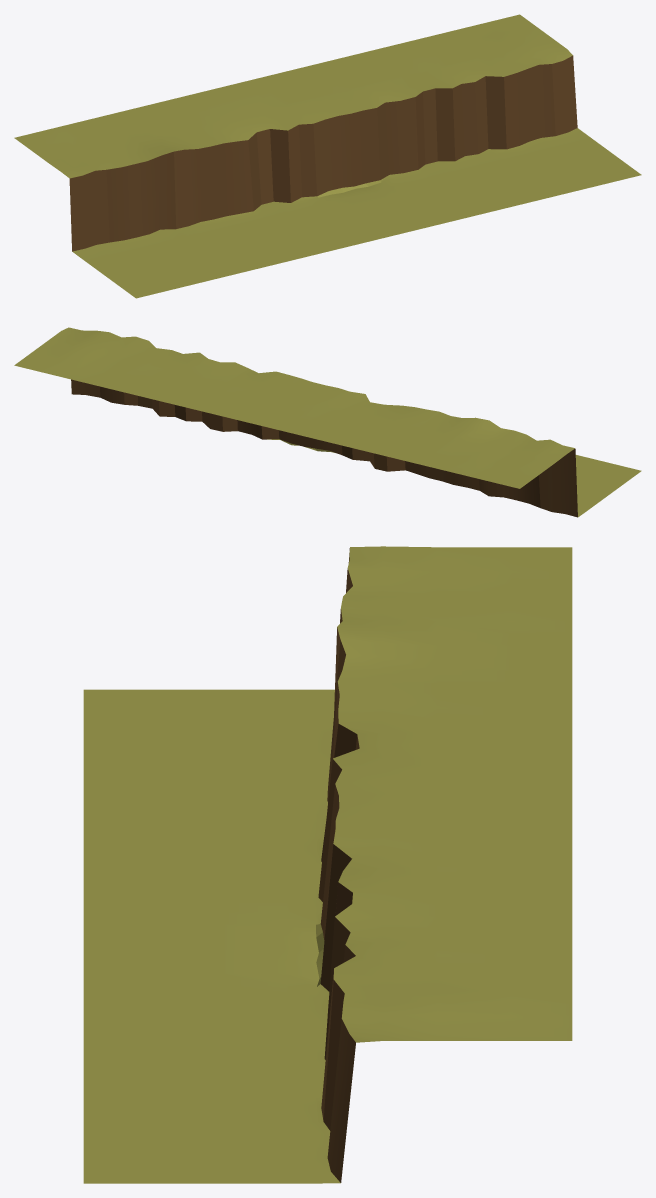
File: Ledge.fbx
The picture shows the model from 3 angles, top to bottom: view 1: azimuth 30°, elevation 25°; view 2: azimuth 150°, elevation 25°; view 3: azimuth 270°, elevation 25°; orthographic projection. The views are drawn at different scales.
Parts seen in each view (by area): view 1: Ledge; view 2: Ledge; view 3: Ledge.
Boxes of the visible parts, x1=… form: Ledge: x1=14, y1=14, x2=641, y2=298; Ledge: x1=14, y1=327, x2=641, y2=517; Ledge: x1=83, y1=546, x2=572, y2=1183.
Bounding box in the file's own units: 1752 × 732 × 257.
